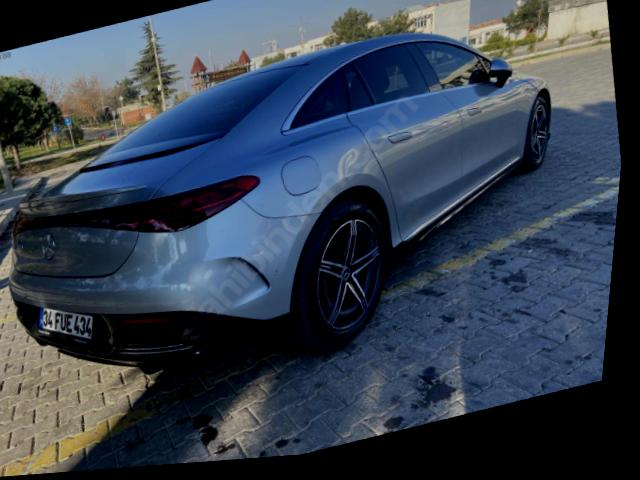plaka: (38, 307, 92, 342)
